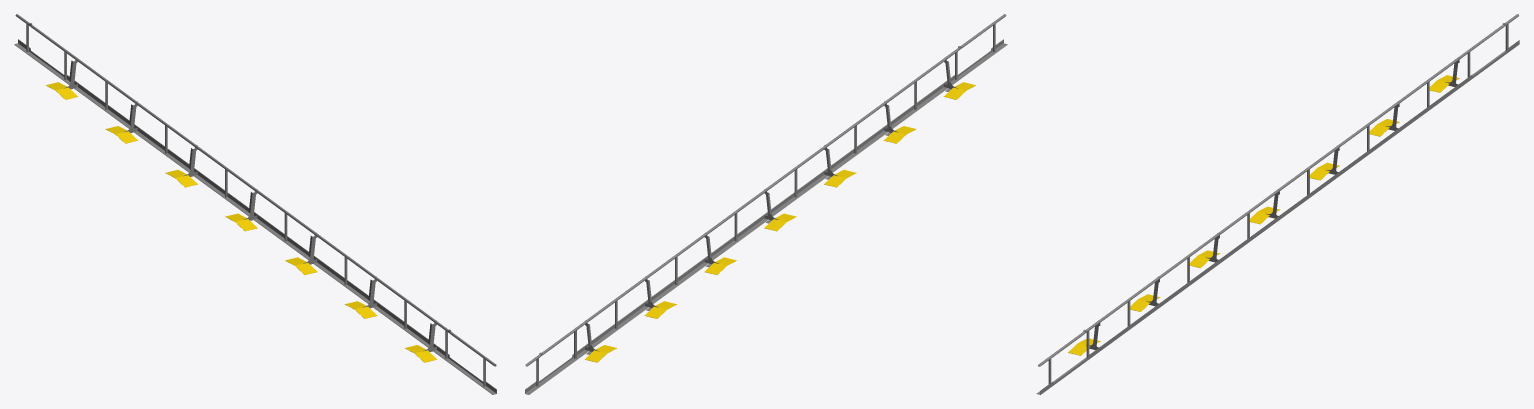
File: SideRailings.FBX
The picture shows the model from 3 angles, left to right: view 1: azimuth 30°, elevation 25°; view 2: azimuth 150°, elevation 25°; view 3: azimuth 330°, elevation 25°; orthographic projection.
Visible parts, largest first — view 1: SideRailings; view 2: SideRailings; view 3: SideRailings.
Part boxes in pixels (bbox=[...]): SideRailings: bbox=[14, 14, 496, 394]; SideRailings: bbox=[525, 14, 1007, 394]; SideRailings: bbox=[1036, 14, 1519, 394].
Bounding box in the file's own units: 40.02 × 1466 × 52.51.
